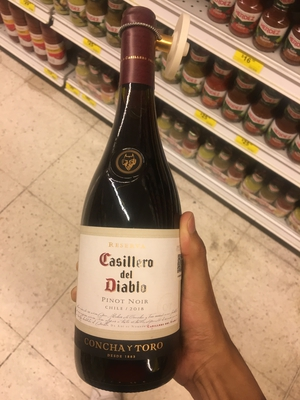casillero del diablo pinot noir: (74, 8, 185, 400)
